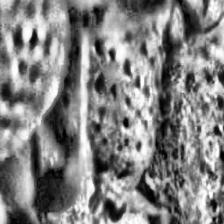Powdery Mildew Fruit: (52, 0, 169, 178), (144, 35, 224, 224), (0, 0, 71, 159)
